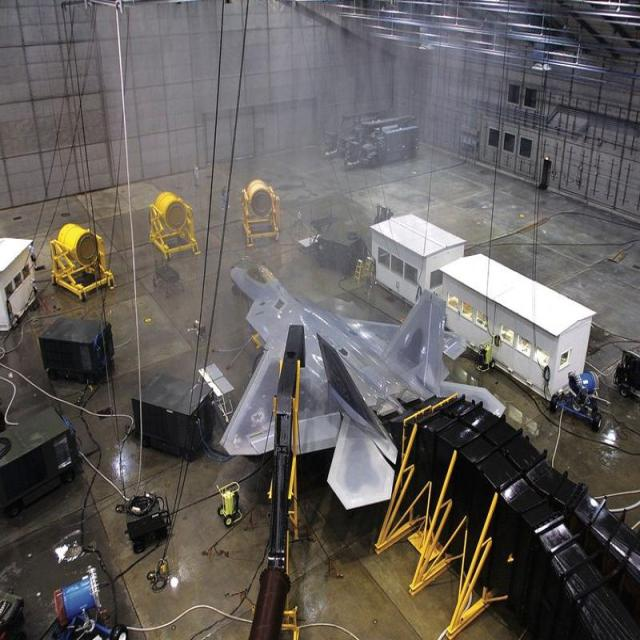MIL_Plane: (230, 263, 507, 511)
